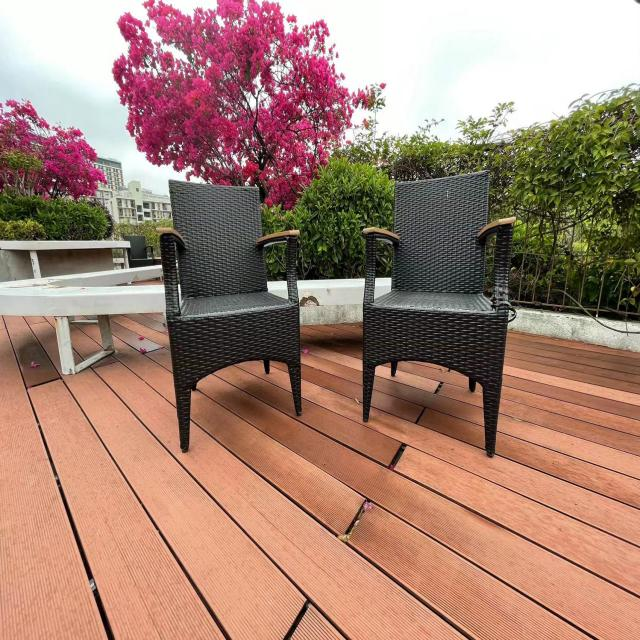chair: (356, 166, 514, 474), (159, 170, 309, 448)
